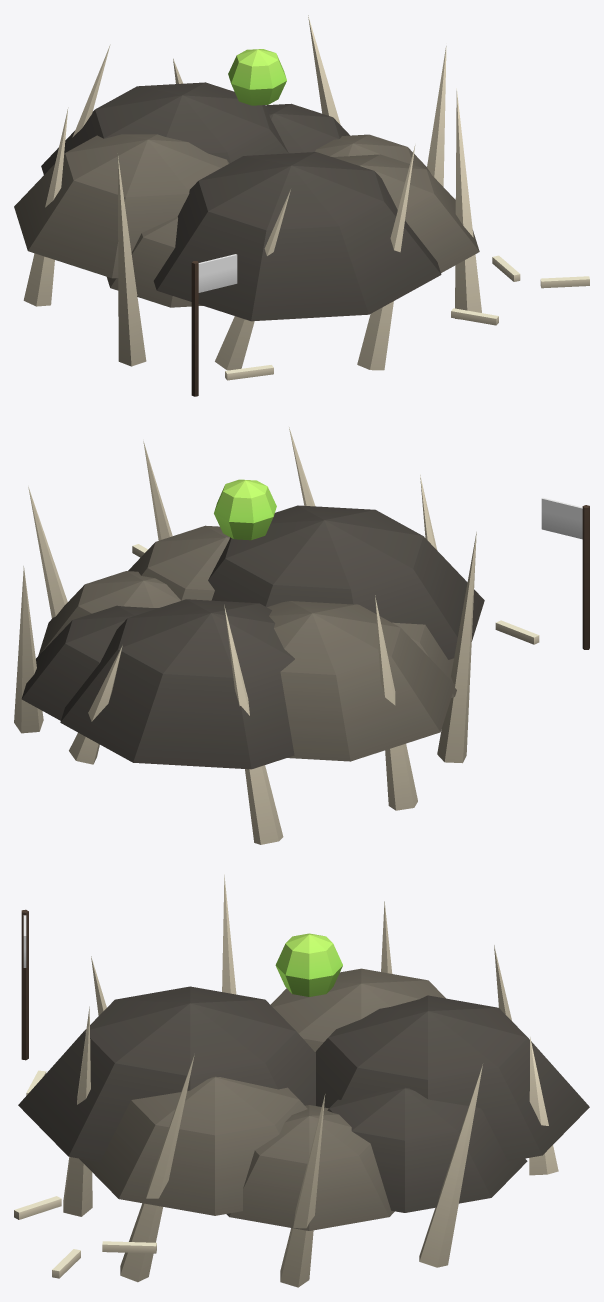
File: LAIR.glb
3 views of the same model, one above another, from view 1: azimuth 30°, elevation 25°; view 2: azimuth 150°, elevation 25°; view 3: azimuth 270°, elevation 25° (orthographic). The views are drawn at different scales.
Parts seen in each view (by area): view 1: Body, Flag; view 2: Body, Flag; view 3: Body.
Part boxes in pixels (box(x1,y1,x2,y2)): Body: box(14, 15, 589, 396); Flag: box(198, 254, 237, 292); Body: box(14, 427, 589, 844); Flag: box(541, 497, 582, 539); Body: box(14, 874, 589, 1287).
Bounding box in the file's own units: 4.01 × 2.22 × 4.25.
1 material, 1 textured.
